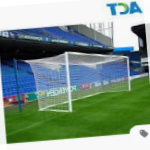goals: (31, 50, 134, 117)
